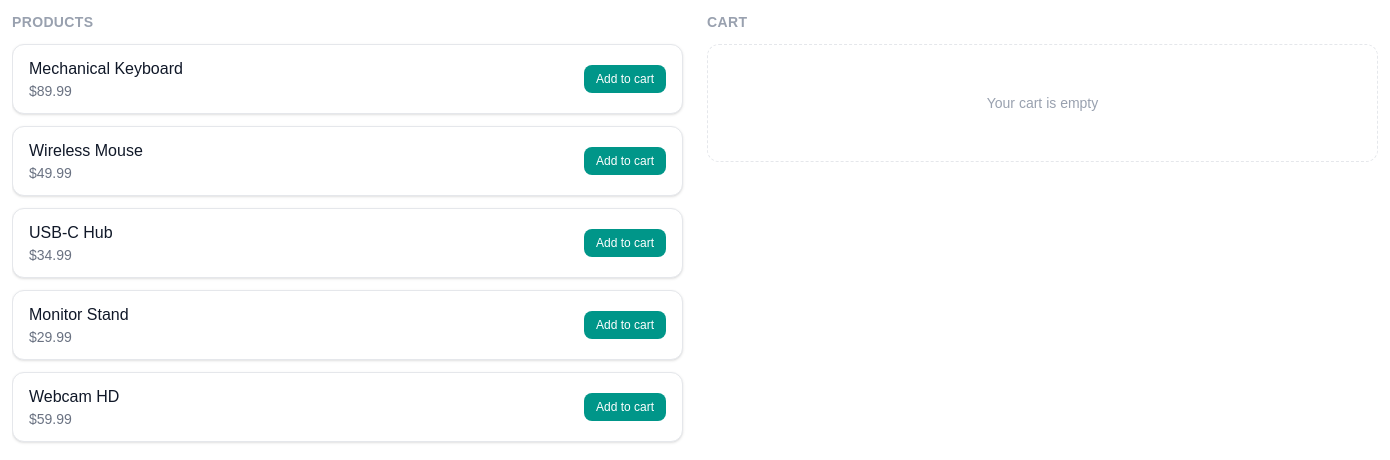
Test: CartDemo (Context) — adding items › increments qty when the same product is added again
Click the button "Add to cart" in the row of "Mechanical Keyboard": [625, 79] box [584, 65, 666, 93]
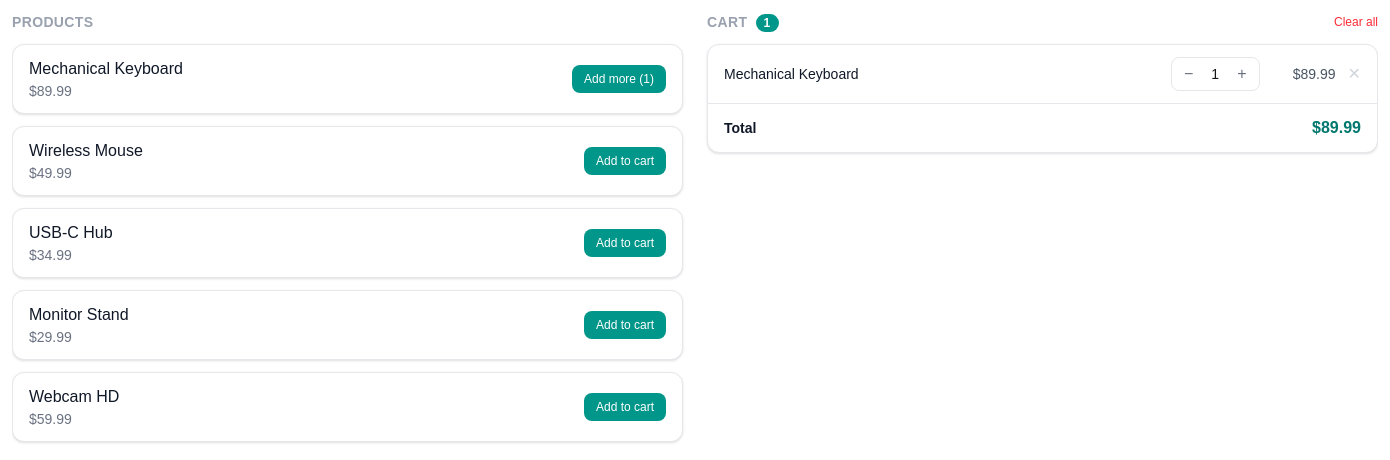
Click the button "Add more (1)": [619, 79] box [572, 65, 666, 93]
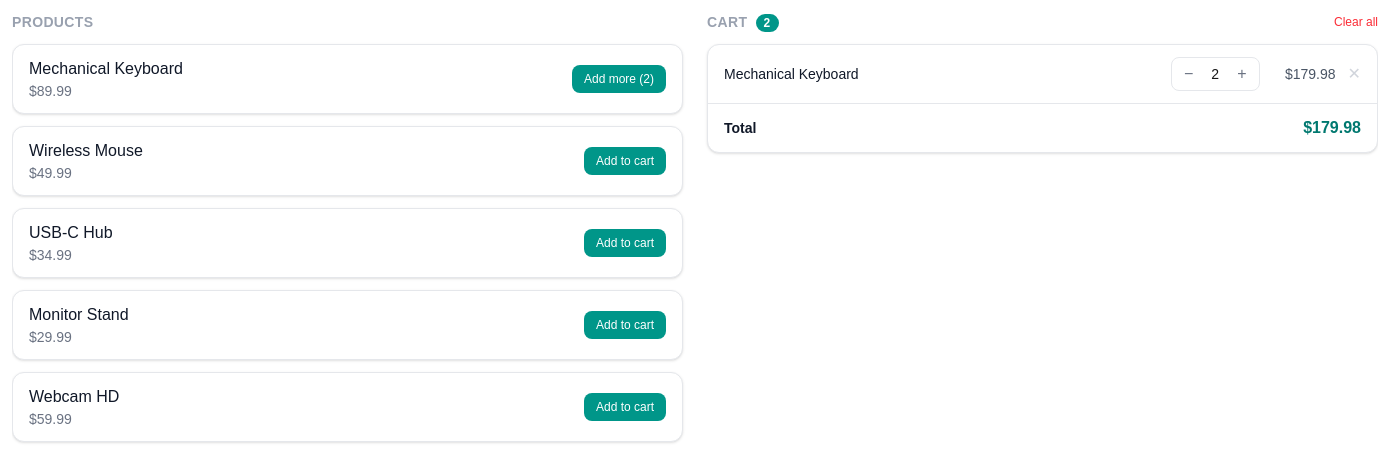
Now the button "Add more (2)" is shown, box [572, 65, 666, 93]
